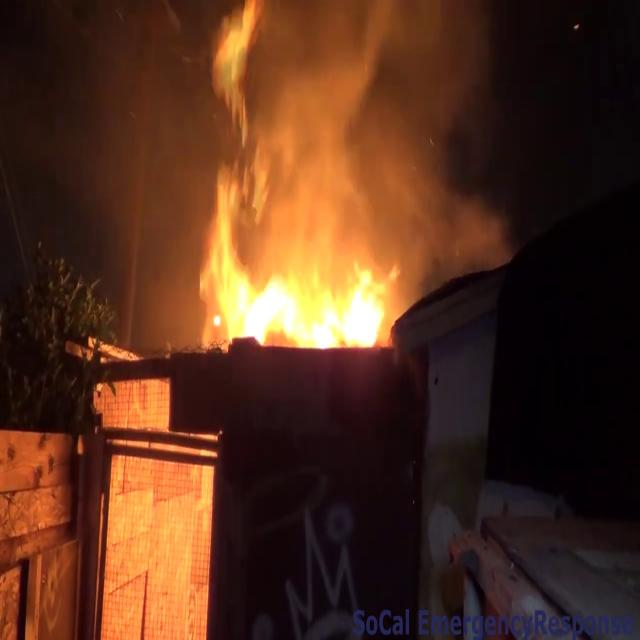Fire: (217, 199, 401, 357)
Smoke: (183, 0, 516, 252)
